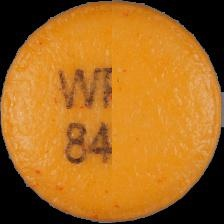50436-6302: (0, 0, 224, 224)
